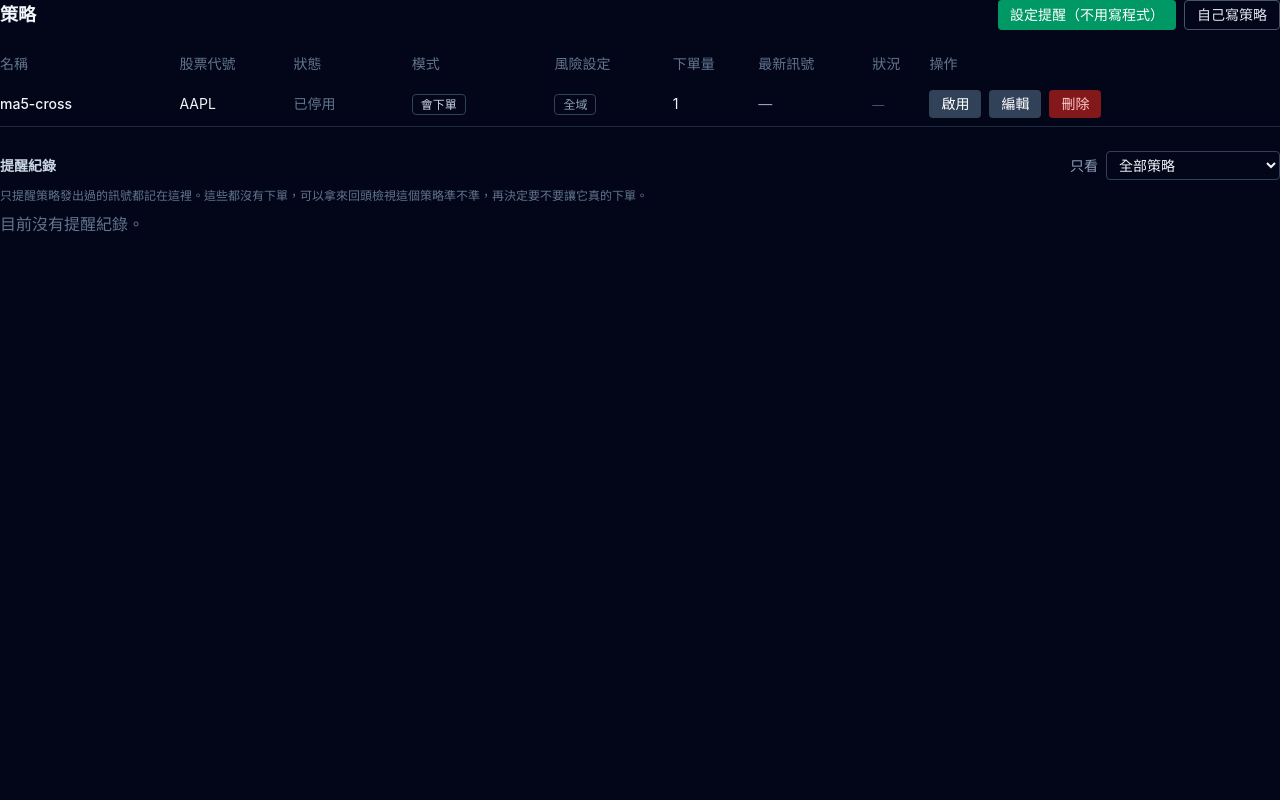
Test: StrategiesPage › lets the owner browse the indicators the runtime already provides
Click the button "自己寫策略".
click(1232, 15)  # box [1184,0,1279,30]
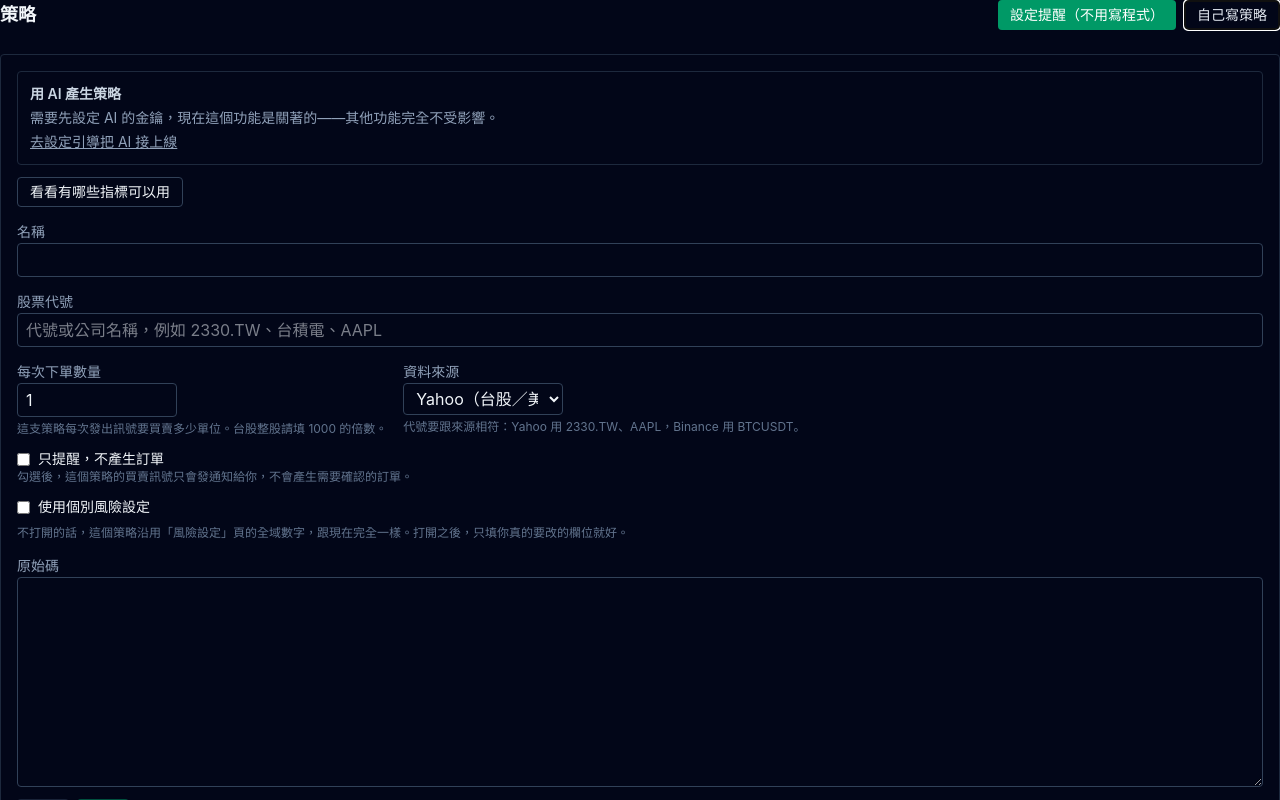
Click the button "看看有哪些指標可以用".
click(100, 192)  # box [17,177,183,207]
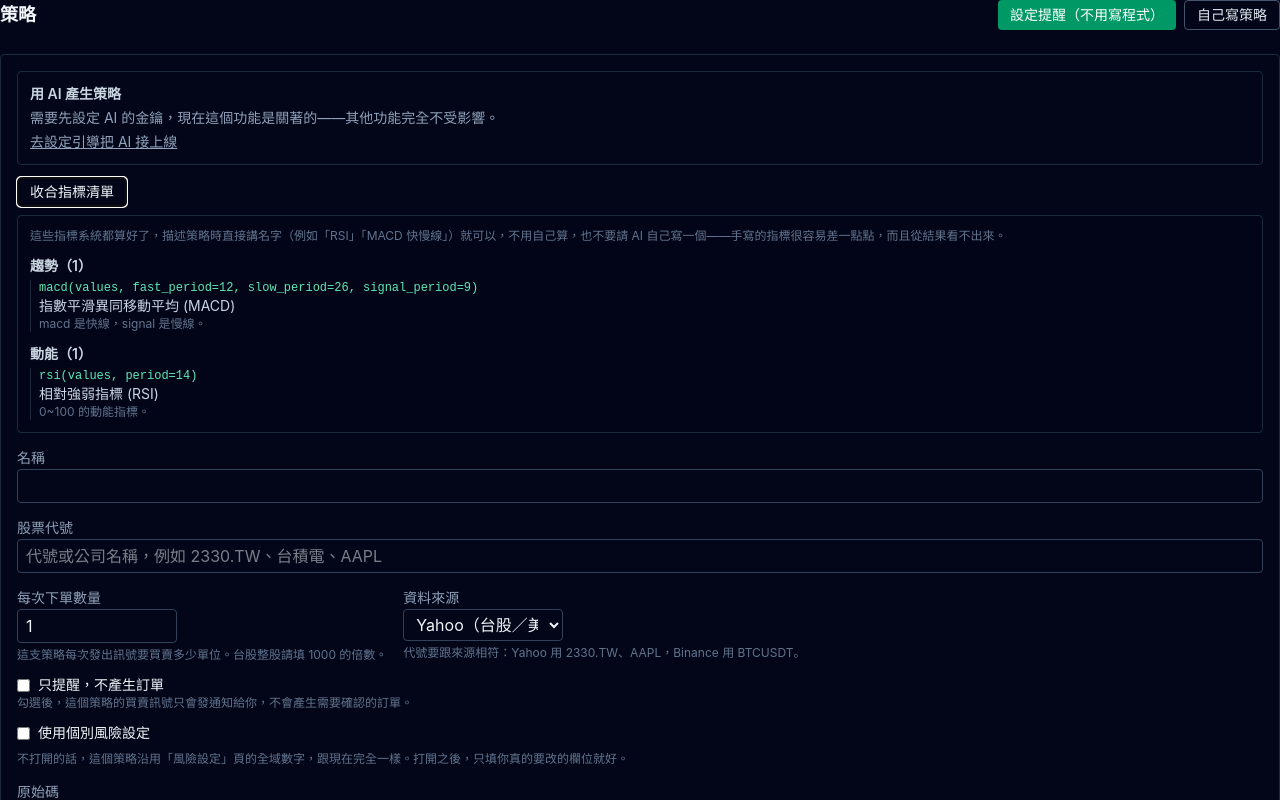
Expected: the text "rsi(values, period=14)" is shown, [39,369,197,383]
Expected: the text "相對強弱指標 (RSI)" is shown, [39,385,159,402]
Expected: the text "動能（1）" is shown, [30,345,92,362]
